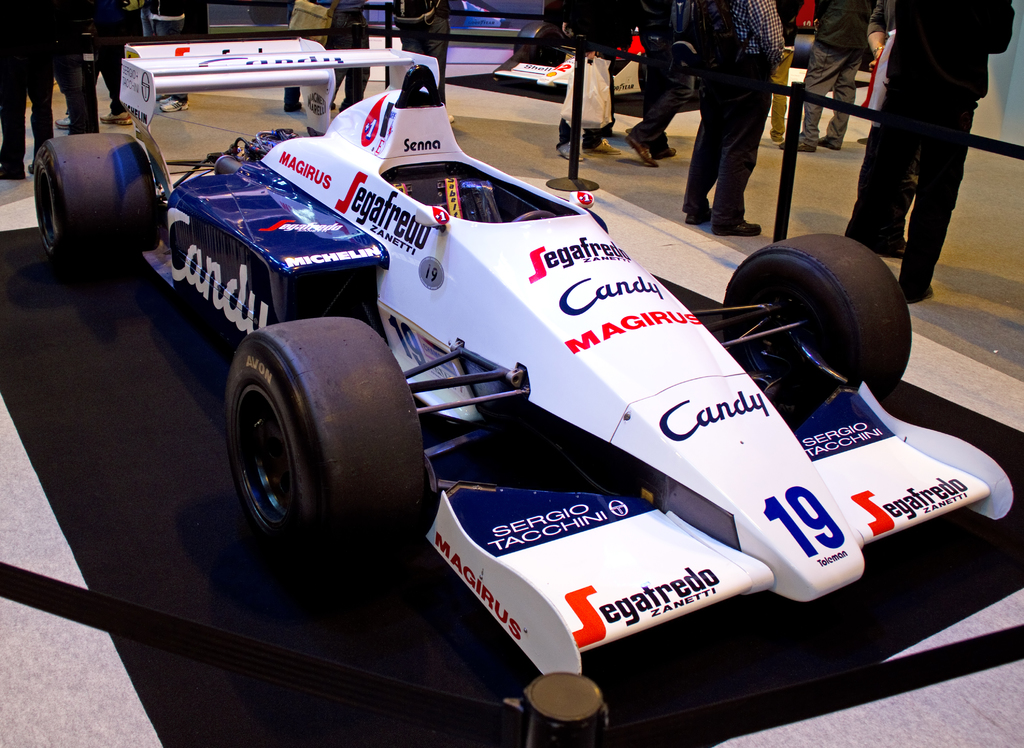Car: (33, 65, 1015, 675)
